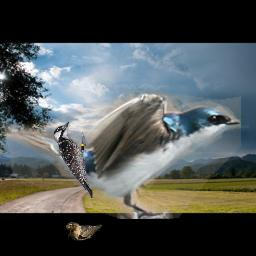Swallow: (1, 90, 241, 219), (66, 222, 102, 241)
Woodpecker: (53, 121, 93, 198)
